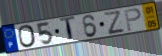5: (35, 20, 55, 46)
6: (81, 13, 98, 39)
O: (17, 24, 38, 49)
P: (123, 7, 143, 32)
T: (59, 15, 76, 43)
Z: (102, 9, 126, 36)
